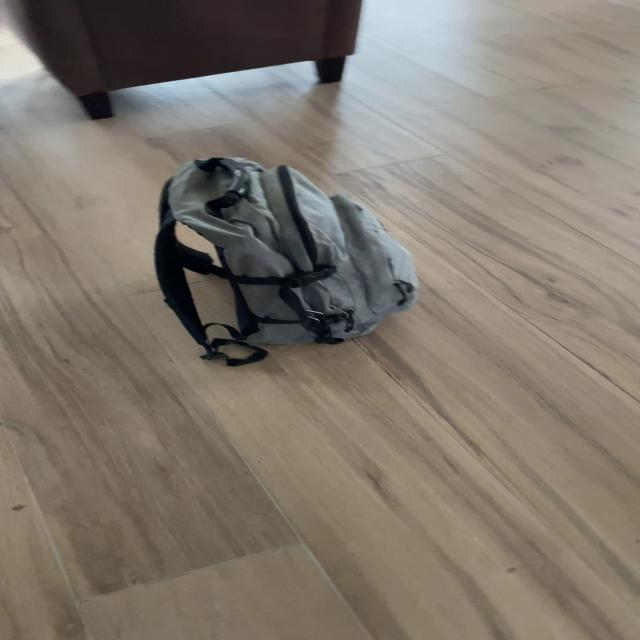backpack: (143, 148, 442, 364)
